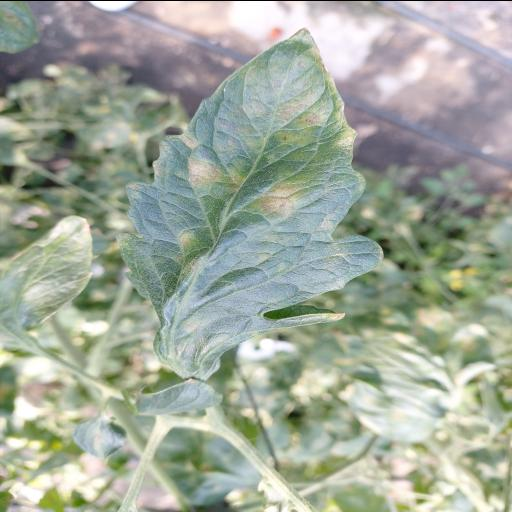disease_tomato: (116, 28, 384, 380)
